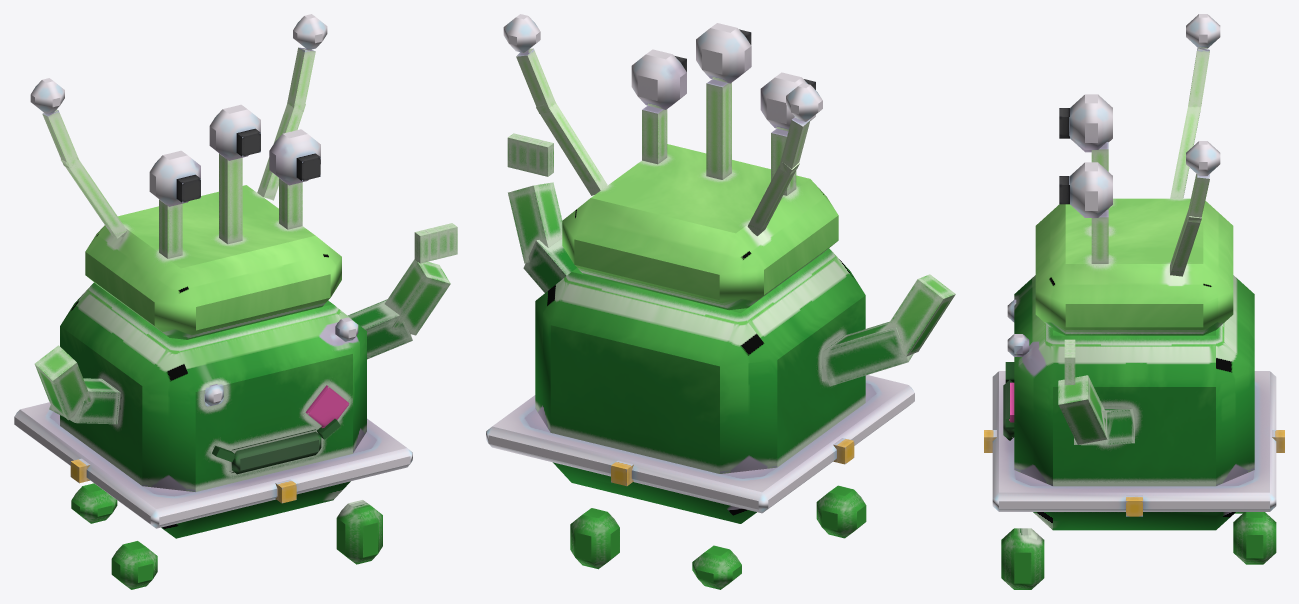
File: AlienGelatine_Rig.fbx
The picture shows the model from 3 angles, left to right: view 1: azimuth 30°, elevation 25°; view 2: azimuth 150°, elevation 25°; view 3: azimuth 270°, elevation 25°; orthographic projection. The views are drawn at different scales.
Visible parts, largest first — view 1: Body, ArmL, Eye1, ArmR, Eye0, Eye2, Antenna1, Antenna0; view 2: Body, ArmR, ArmL, Eye1, Antenna0, Eye2, Antenna1, Eye0; view 3: Body, ArmL, Eye2, Antenna1, Eye1, Antenna0.
Part boxes in pixels (x1,y1,x2,y2): Body: (14, 185, 412, 589); ArmL: (347, 223, 457, 359); Eye1: (209, 104, 260, 244); ArmR: (34, 345, 120, 424); Eye0: (149, 150, 200, 258); Eye2: (269, 129, 320, 229); Antenna1: (30, 78, 127, 238); Antenna0: (257, 14, 327, 200); Body: (486, 144, 914, 589); ArmR: (821, 274, 955, 386); ArmL: (507, 133, 576, 292); Eye1: (696, 23, 751, 179); Antenna0: (503, 14, 607, 195); Eye2: (631, 49, 686, 164); Antenna1: (747, 83, 822, 236); Eye0: (760, 72, 815, 195); Body: (984, 198, 1284, 589); ArmL: (1058, 339, 1134, 445); Eye2: (1059, 162, 1112, 263); Antenna1: (1170, 14, 1220, 198); Eye1: (1059, 94, 1112, 209); Antenna0: (1170, 141, 1220, 276).
Size of the model in its own units: 5.54 by 6 by 3.53.
1 material, 1 textured.
